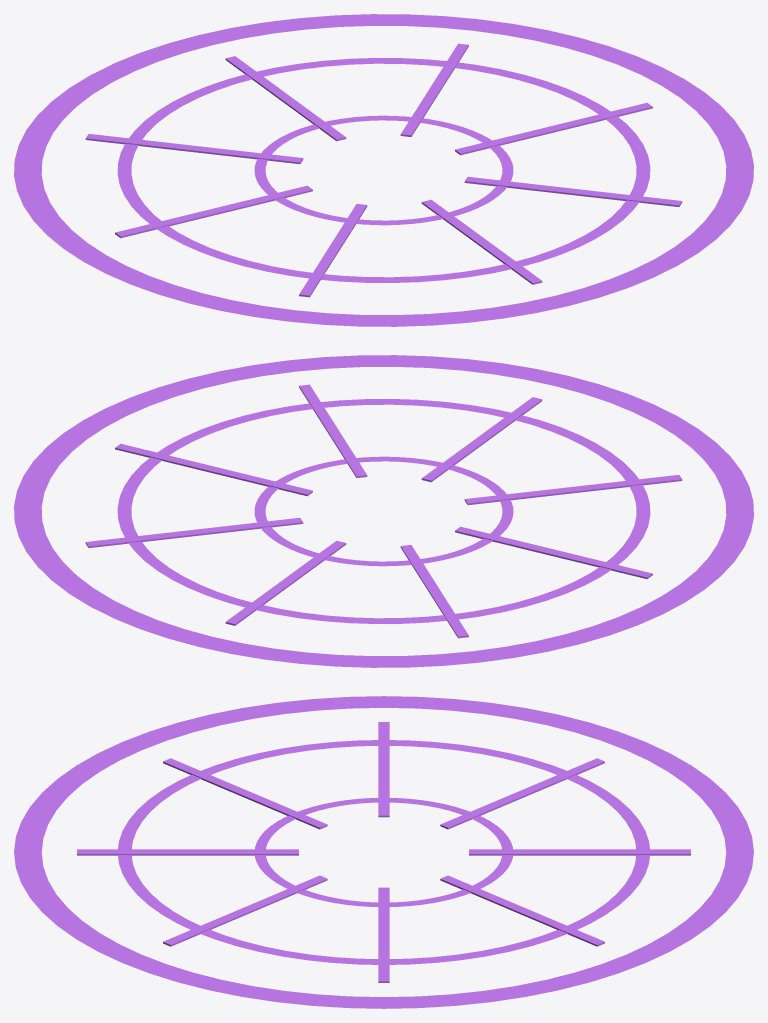
File: Seal_Event.fbx
3 renders of one model, top to bottom at view 1: azimuth 30°, elevation 25°; view 2: azimuth 150°, elevation 25°; view 3: azimuth 270°, elevation 25°, orthographic.
Parts seen in each view (by area): view 1: Seal_Event; view 2: Seal_Event; view 3: Seal_Event.
Boxes of the visible parts, x1,y1,x2,y2 form: Seal_Event: (14, 14, 753, 326); Seal_Event: (14, 355, 753, 667); Seal_Event: (14, 696, 753, 1008).
Bounding box in the file's own units: 8 × 0.02 × 8.
